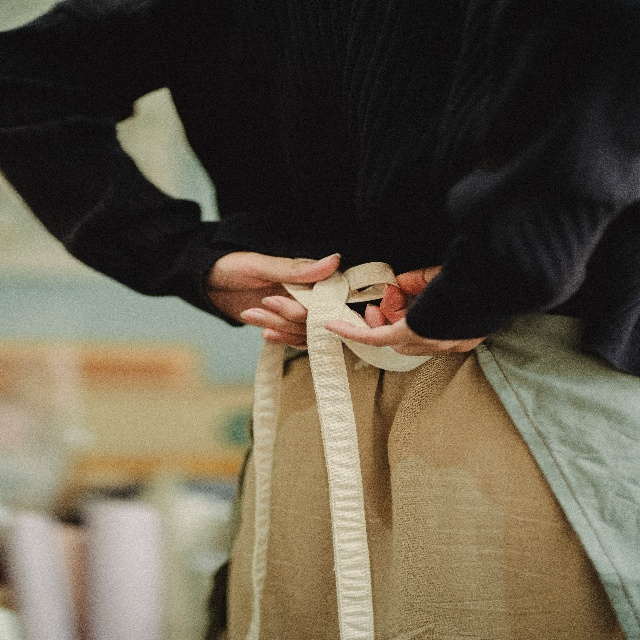Sin_guantes: (325, 275, 488, 368), (209, 236, 336, 338)
